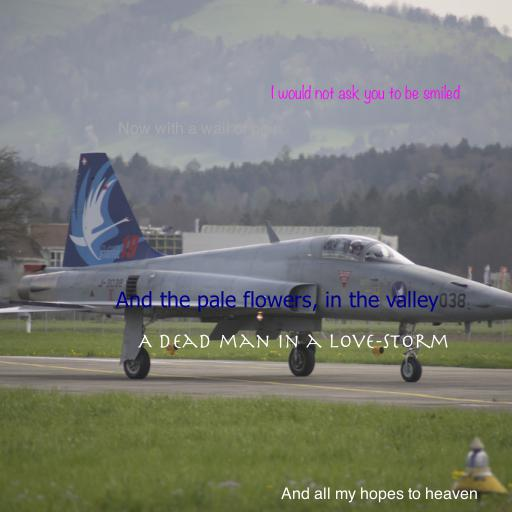Herculanum: (138, 334, 450, 349)
Impact: (118, 122, 282, 138)
Noteworthy: (270, 84, 460, 104)
SF Pro: (280, 487, 478, 503)
Tahoma: (115, 290, 439, 312)
